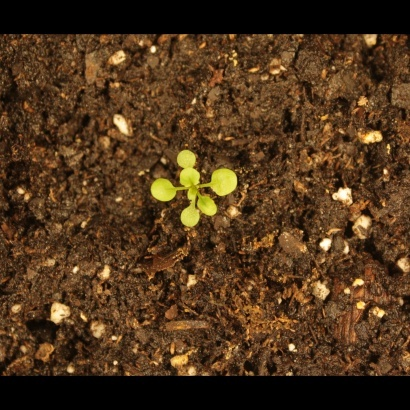leaf: (211, 170, 246, 196), (149, 175, 179, 205), (176, 202, 201, 235), (174, 148, 204, 171), (179, 166, 203, 193), (199, 197, 222, 220)
